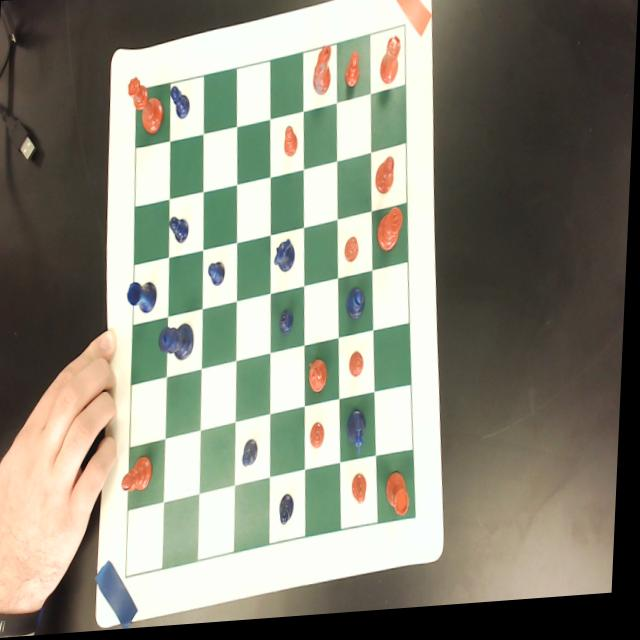B: (348, 291, 368, 326)
K: (160, 325, 197, 365)
N: (349, 413, 371, 464), (275, 243, 296, 276)
P: (169, 86, 192, 124), (170, 216, 192, 247), (245, 440, 262, 471), (283, 495, 298, 530), (209, 263, 228, 290), (282, 313, 296, 339)
R: (127, 281, 160, 316)
b: (124, 455, 158, 497), (376, 161, 396, 200)
k: (377, 211, 405, 258)
n: (313, 47, 334, 102), (309, 361, 331, 398)
p: (344, 54, 360, 95), (355, 478, 371, 511), (284, 128, 299, 163), (312, 425, 329, 454), (350, 355, 367, 384), (346, 240, 361, 267)
q: (126, 76, 166, 138)
r: (388, 475, 414, 523), (378, 39, 401, 90)
